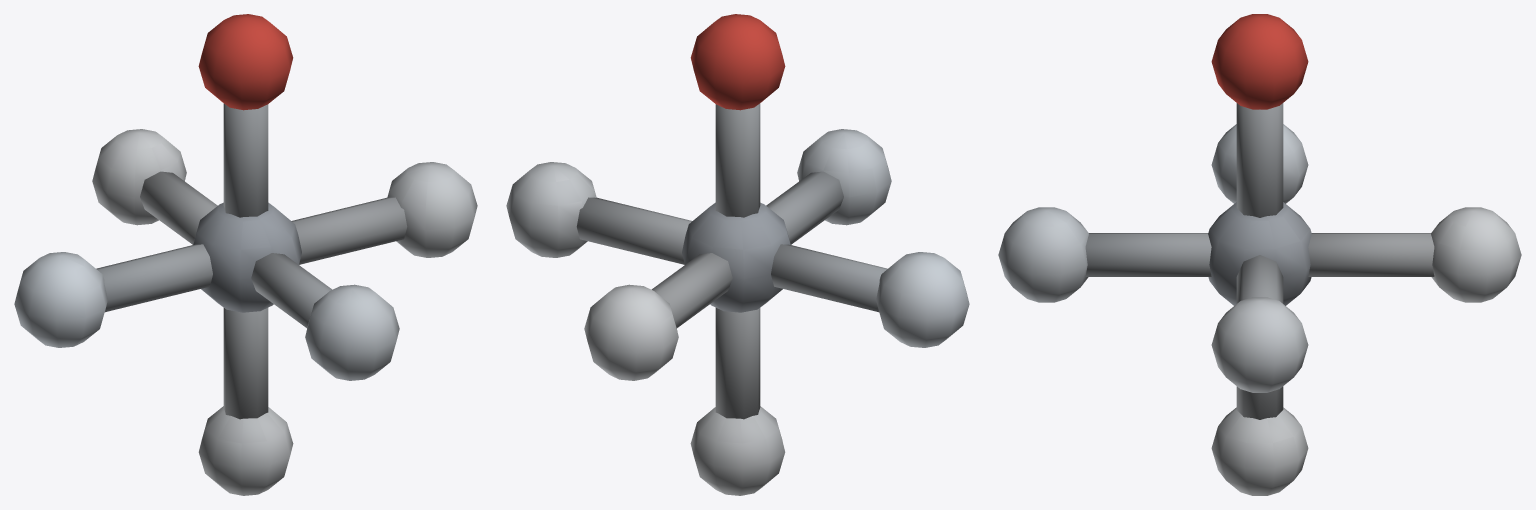
The model's file is den_jacks.glb.
3 renders of one model, left to right at view 1: azimuth 30°, elevation 25°; view 2: azimuth 150°, elevation 25°; view 3: azimuth 270°, elevation 25°, orthographic.
Parts seen in each view (by area): view 1: den_jacks; view 2: den_jacks; view 3: den_jacks.
Boxes of the visible parts, x1,y1,x2,y2 form: den_jacks: (14, 14, 477, 495); den_jacks: (506, 14, 969, 495); den_jacks: (998, 14, 1521, 495).
Bounding box in the file's own units: 2.68 × 2.7 × 2.7.
